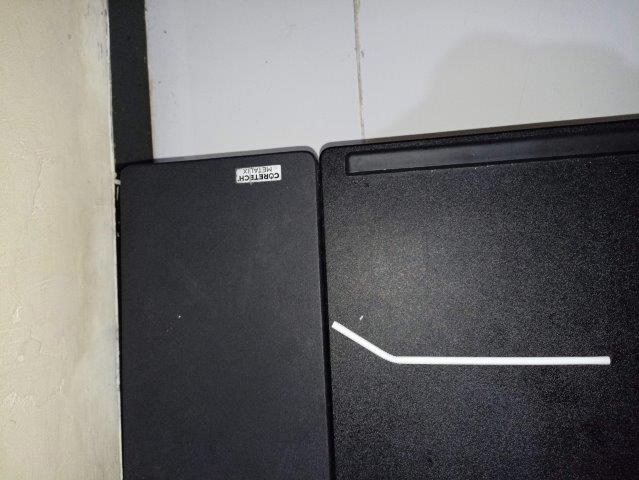sedotan: (331, 321, 610, 366)
